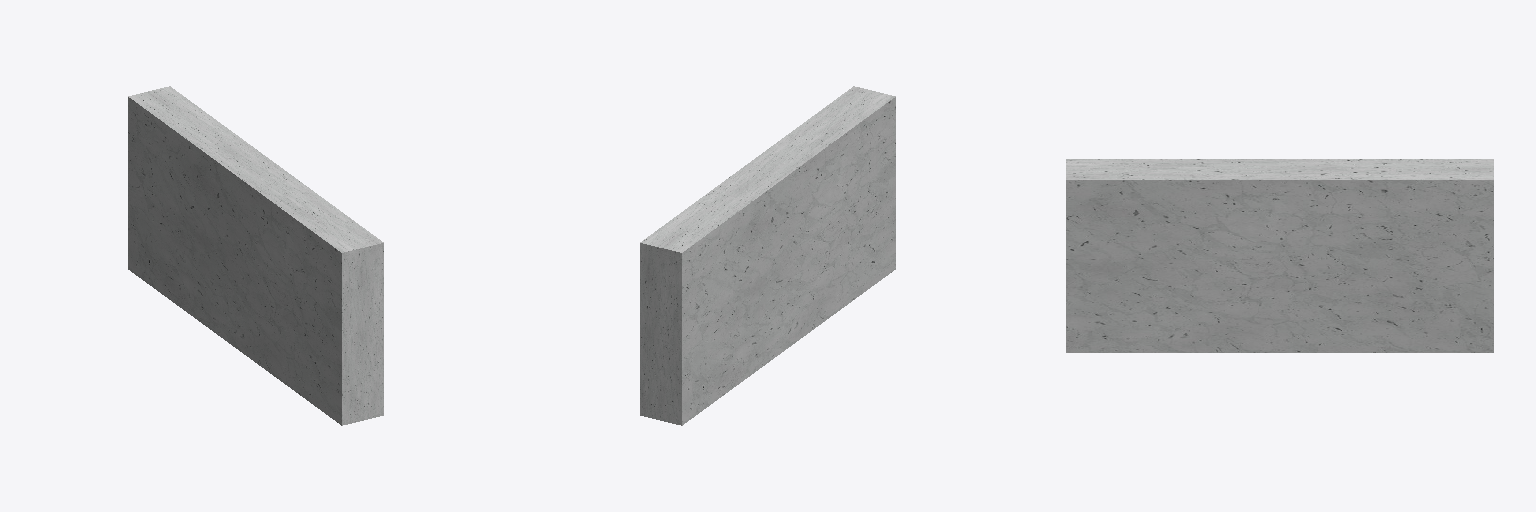
3 renders of one model, left to right at view 1: azimuth 30°, elevation 25°; view 2: azimuth 150°, elevation 25°; view 3: azimuth 270°, elevation 25°, orthographic.
Visible parts, largest first — view 1: pasted__polySurface503 pasted__pasted__pasted__pasted__pCube10 g; view 2: pasted__polySurface503 pasted__pasted__pasted__pasted__pCube10 g; view 3: pasted__polySurface503 pasted__pasted__pasted__pasted__pCube10 g.
Part boxes in pixels (x1,y1,x2,y2): pasted__polySurface503 pasted__pasted__pasted__pasted__pCube10 g: (128,86,383,425); pasted__polySurface503 pasted__pasted__pasted__pasted__pCube10 g: (640,86,895,425); pasted__polySurface503 pasted__pasted__pasted__pasted__pCube10 g: (1066,159,1493,352).
Size of the model in its own units: 0.4291 by 1.68 by 3.78.
Materials: 1 (1 with a texture image).